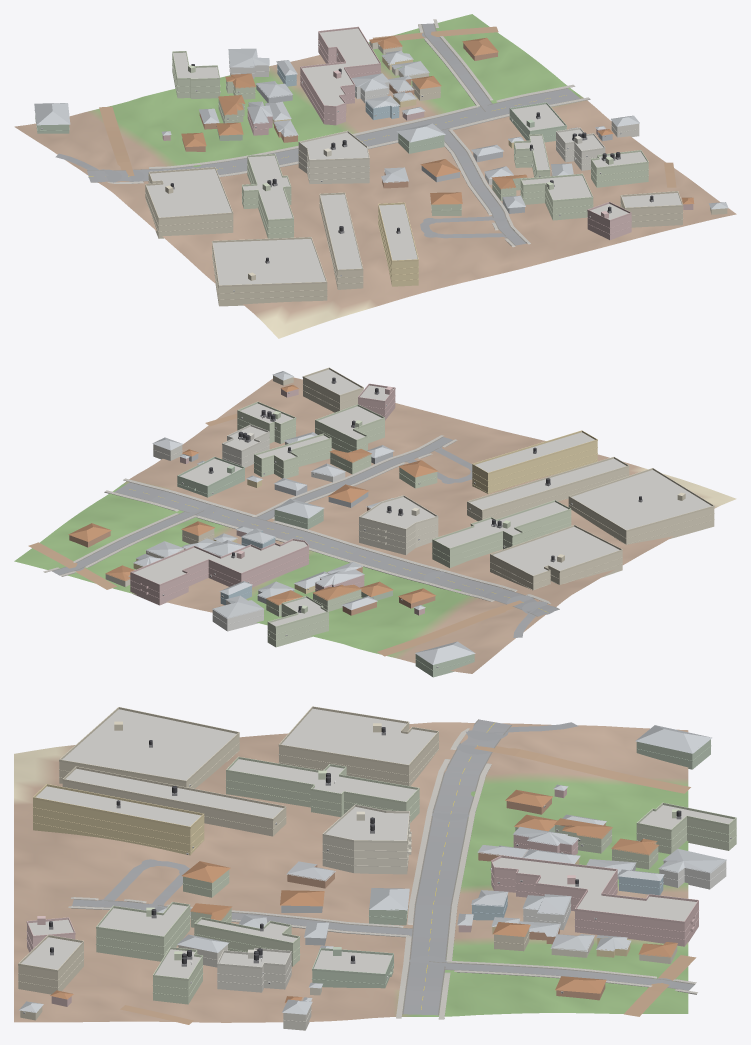
3 views of the same model, one above another, from view 1: azimuth 30°, elevation 25°; view 2: azimuth 150°, elevation 25°; view 3: azimuth 270°, elevation 25° (orthographic). The views are drawn at different scales.
Visible parts, largest first — view 1: Terrain-col, Buildings-col, Details, Roads-col, Sidewalks-col; view 2: Buildings-col, Terrain-col, Details, Roads-col, Sidewalks-col; view 3: Buildings-col, Terrain-col, Roads-col, Details, Sidewalks-col.
Boxes of the visible parts, x1,y1,x2,y2 form: Terrain-col: [14, 14, 736, 338]; Buildings-col: [34, 28, 728, 306]; Details: [34, 26, 727, 299]; Roads-col: [55, 23, 676, 245]; Sidewalks-col: [107, 19, 590, 247]; Buildings-col: [68, 369, 714, 677]; Terrain-col: [14, 377, 736, 673]; Details: [129, 367, 714, 670]; Roads-col: [28, 413, 559, 656]; Sidewalks-col: [43, 435, 550, 603]; Buildings-col: [18, 708, 736, 1030]; Terrain-col: [14, 722, 688, 1022]; Roads-col: [72, 719, 696, 1024]; Details: [18, 706, 736, 1022]; Sidewalks-col: [68, 728, 697, 1019].
Bounding box in the file's own units: 273 × 24.09 × 275.
